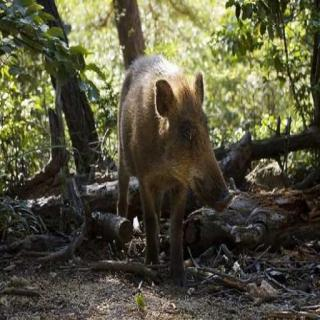Pig: (109, 58, 237, 275)
